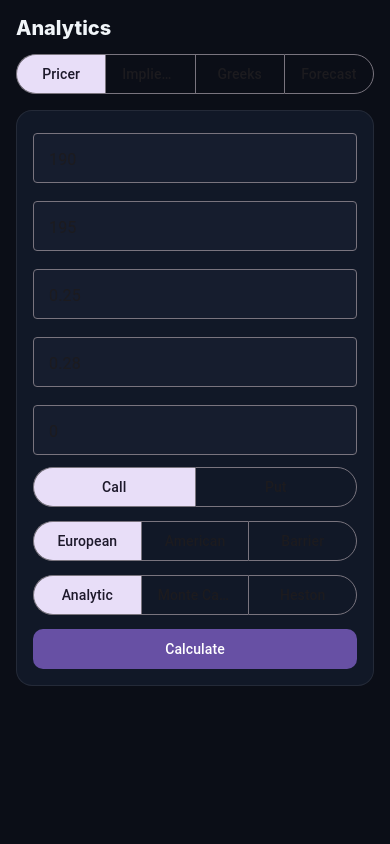
AnalyticsScreen tabs › switches to Greeks
The width and height of the screenshot is (390, 844).
Click the button "Greeks".
click(240, 74)  # box [196, 55, 284, 93]
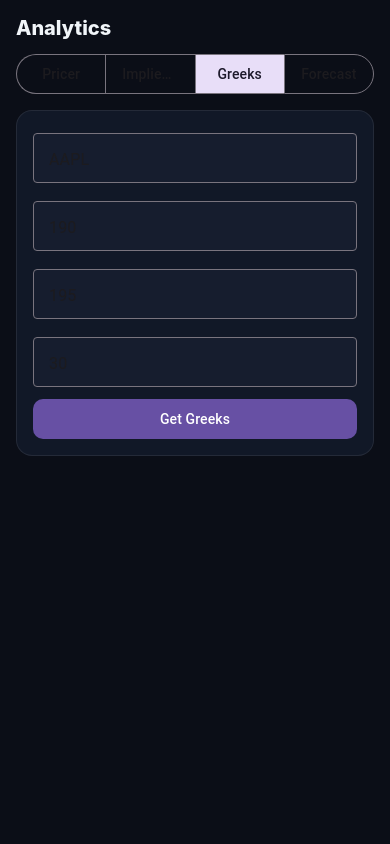
expect the text "Get Greeks" is shown: met, box [160, 409, 230, 429]
